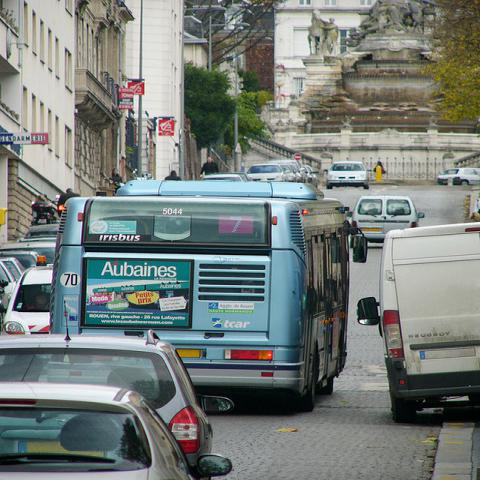bus: (46, 171, 378, 413)
car: (0, 159, 307, 383), (0, 298, 236, 467), (357, 223, 479, 423), (2, 382, 188, 472), (347, 195, 425, 240), (7, 265, 57, 331), (326, 162, 370, 190), (0, 256, 25, 299), (246, 163, 288, 183), (436, 167, 479, 186), (18, 224, 60, 242), (298, 166, 320, 186), (276, 163, 297, 182), (202, 174, 244, 180)
truck: (353, 223, 479, 425)
